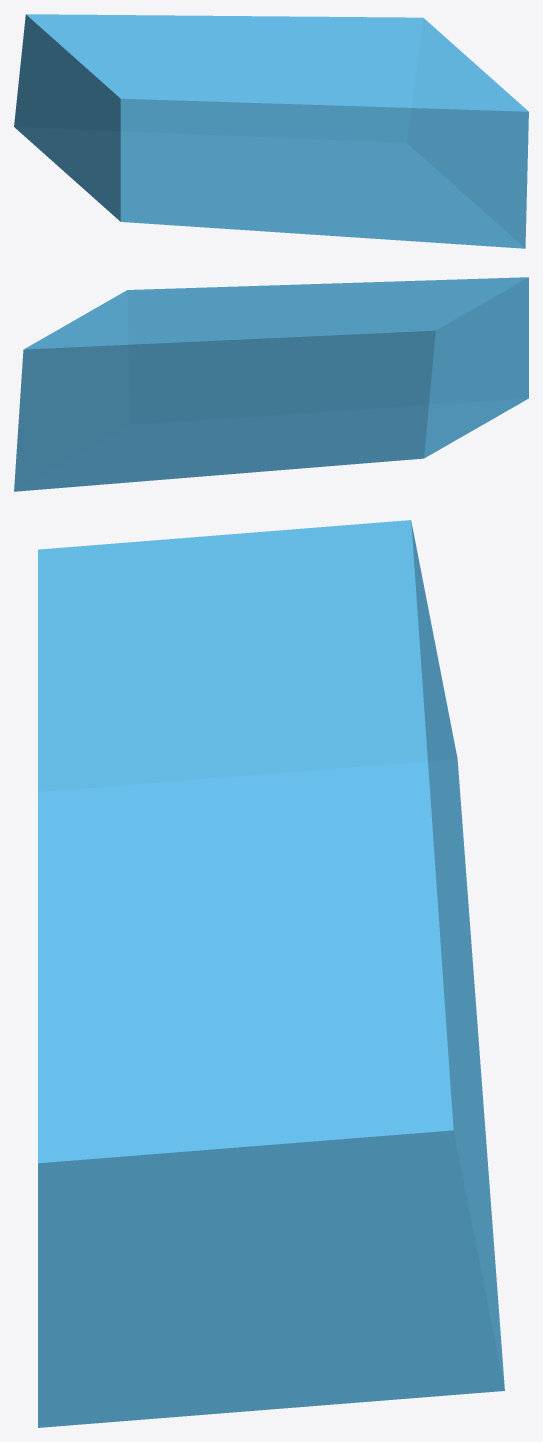
File: Event_420094457_HErechit_70.fbx
3 renders of one model, top to bottom at view 1: azimuth 30°, elevation 25°; view 2: azimuth 150°, elevation 25°; view 3: azimuth 270°, elevation 25°, orthographic. The views are drawn at different scales.
Parts seen in each view (by area): view 1: Model; view 2: Model; view 3: Model.
Part boxes in pixels (<box>): Model: <box>14,14,528,248</box>; Model: <box>14,277,528,491</box>; Model: <box>38,520,504,1427</box>.
Bounding box in the file's own units: 1.26 × 0.7789 × 0.6349.
